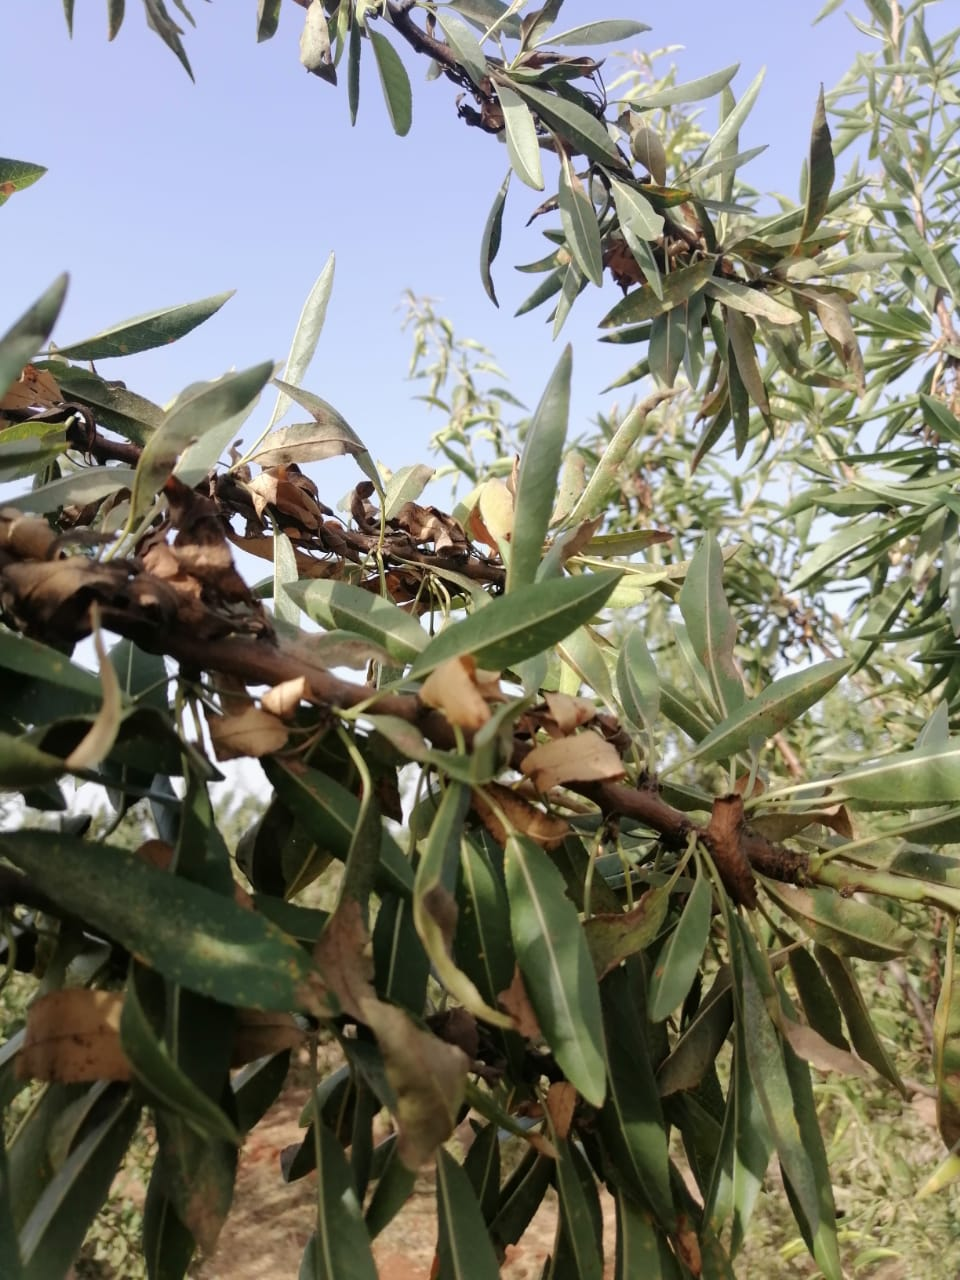scolytes: (1, 503, 767, 908), (215, 442, 529, 610)
